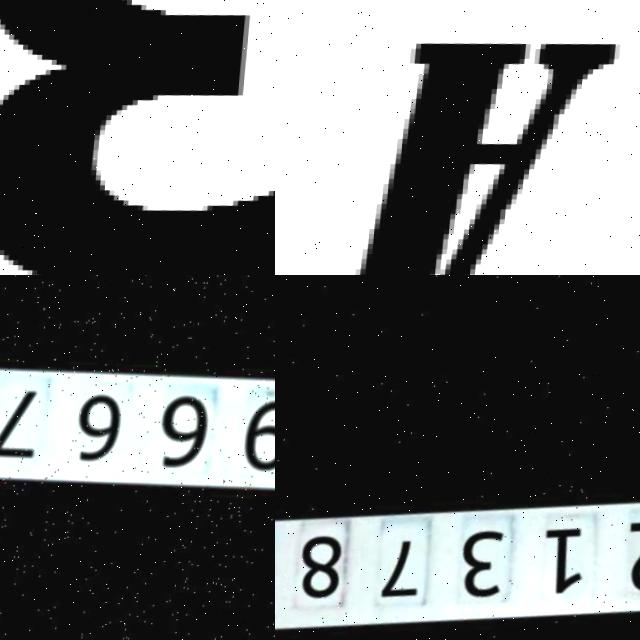1: (532, 517, 611, 621)
2: (612, 511, 640, 622)
3: (0, 0, 275, 275), (447, 518, 529, 624)
6: (156, 394, 220, 490), (74, 393, 133, 482)
7: (370, 527, 442, 621), (0, 386, 52, 478)
8: (286, 520, 365, 624)
9: (240, 397, 275, 495)
A: (275, 20, 626, 275)
